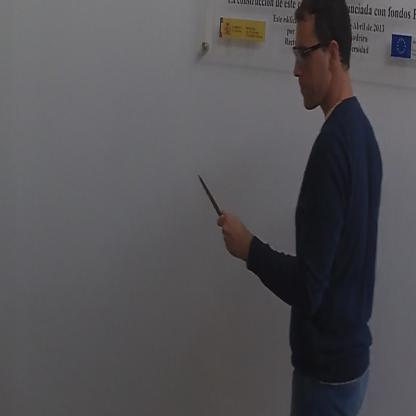knife: (192, 163, 233, 235)
